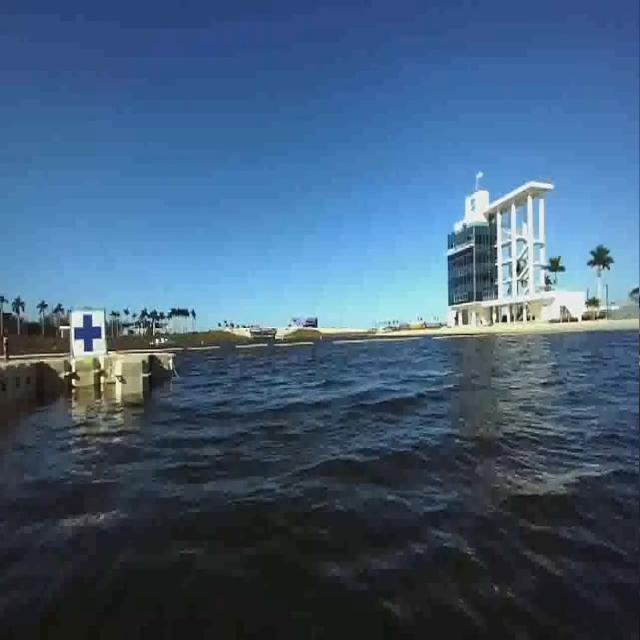blue-cross: (69, 301, 107, 365)
